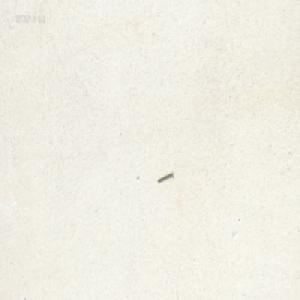Bolt: (156, 169, 173, 181)
